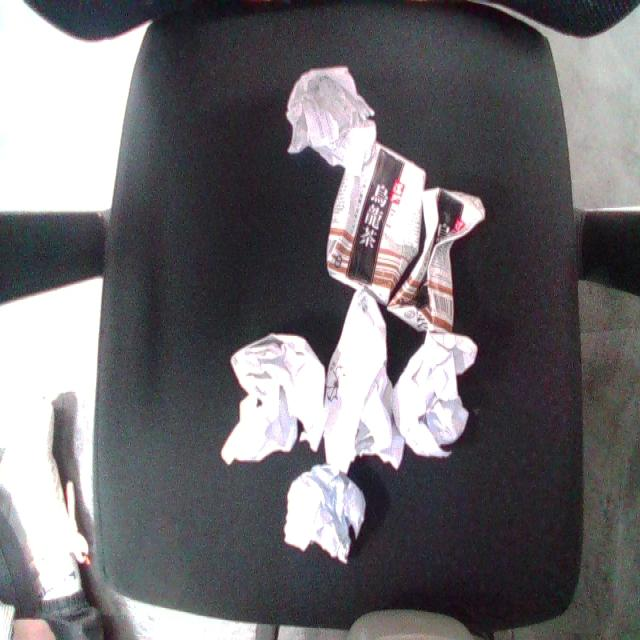juicebox: (297, 129, 448, 324)
paper: (315, 284, 430, 481), (218, 319, 331, 488), (389, 321, 481, 464), (281, 59, 384, 179), (275, 456, 379, 565)
